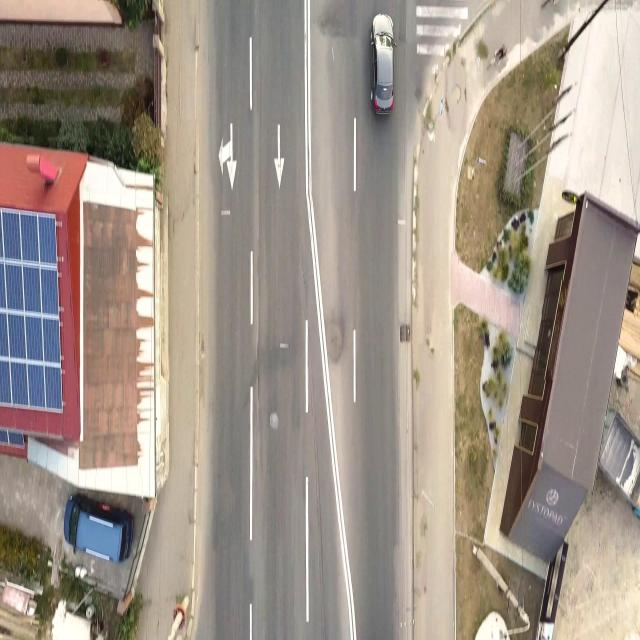Car: (367, 12, 398, 119)
Van: (62, 491, 133, 564)
